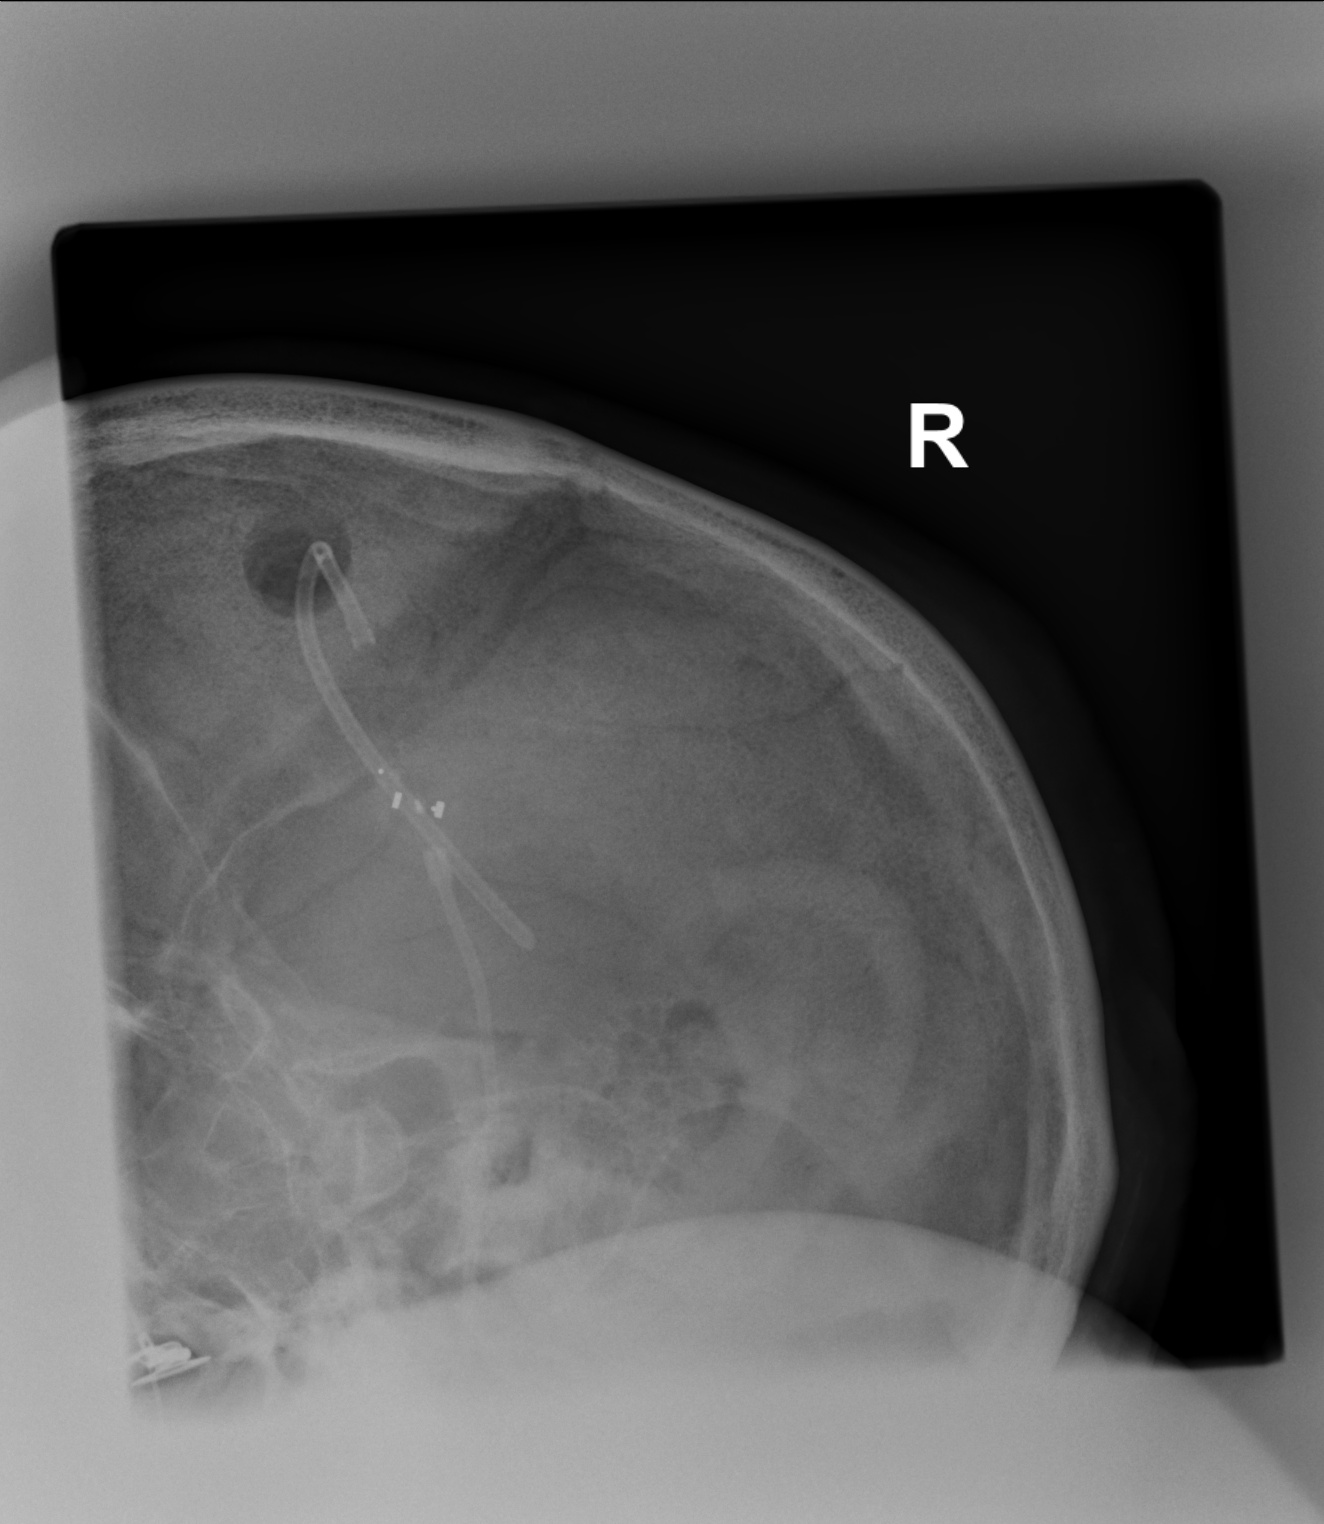Codman Certas: (358, 758, 472, 838)
